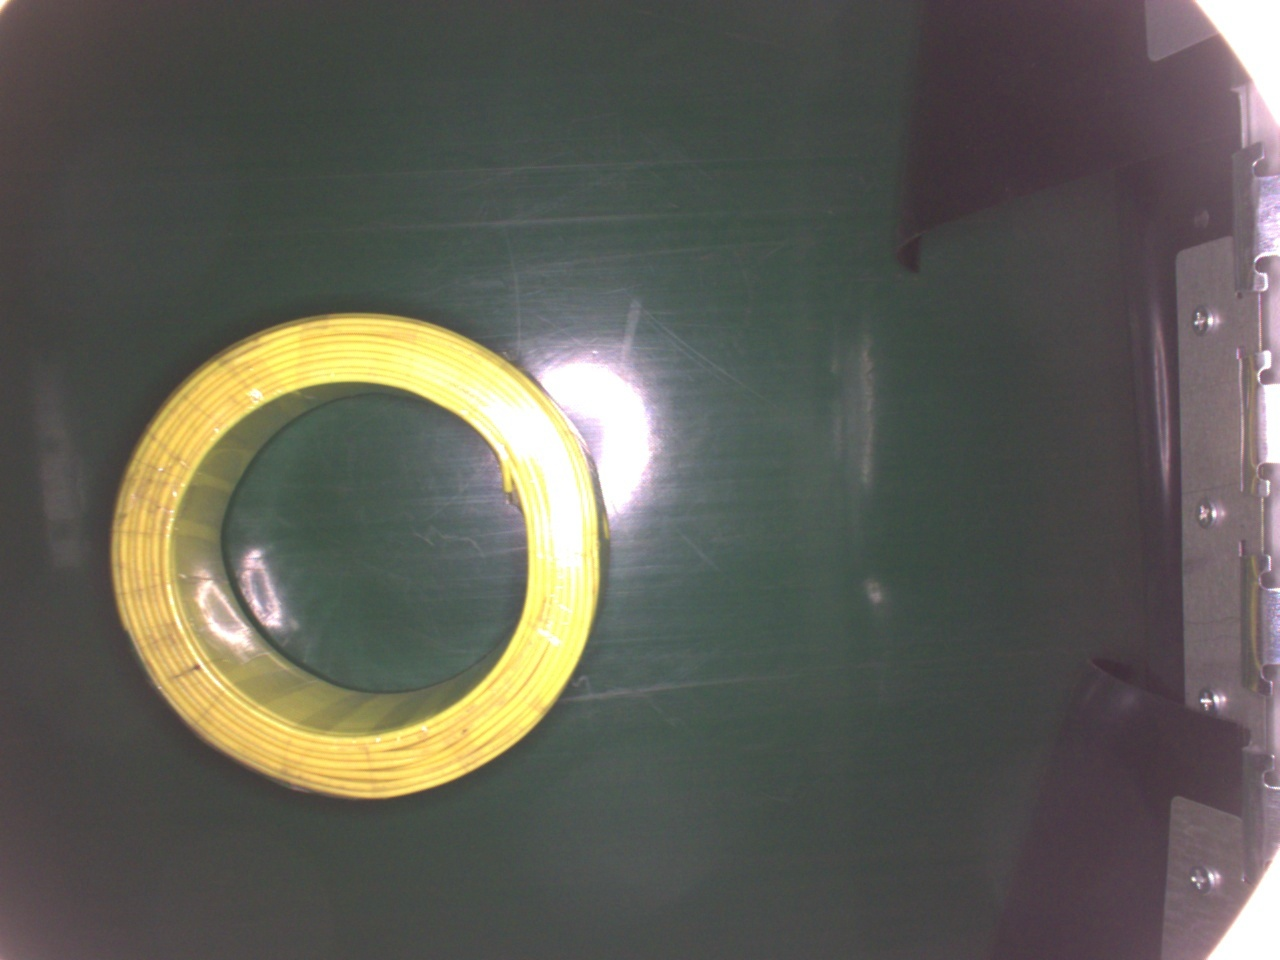yellow: (110, 306, 607, 800)
